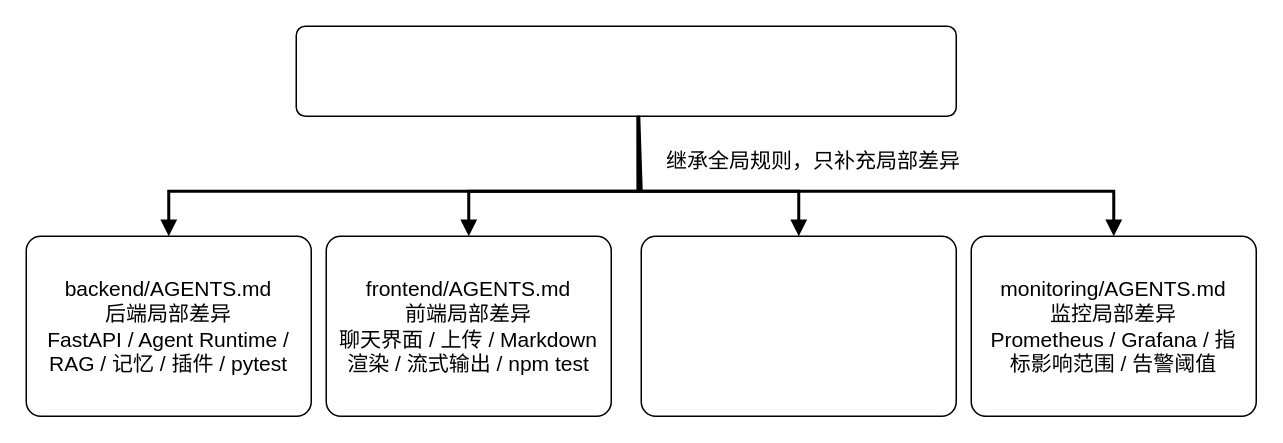
Some shapes in this 1283 by 443 pixel diagram are drawn without their labels. Here are the shapes that lost their labels. From the top down, the box of each, then its label:
(295, 25, 956, 116): 根目录 AGENTS.md 全局共识 项目目标 / 顶层目录 / 统一命令 / 全局禁区 / 交付格式
(640, 235, 956, 416): knowledge_base/AGENTS.md 知识库局部差异 心理健康知识 / 临床建议 / 危机干预 / 人工复核点
